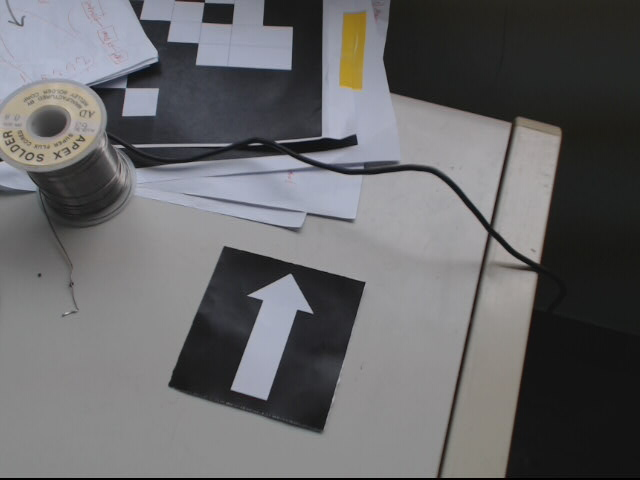straight: (165, 246, 366, 431)
